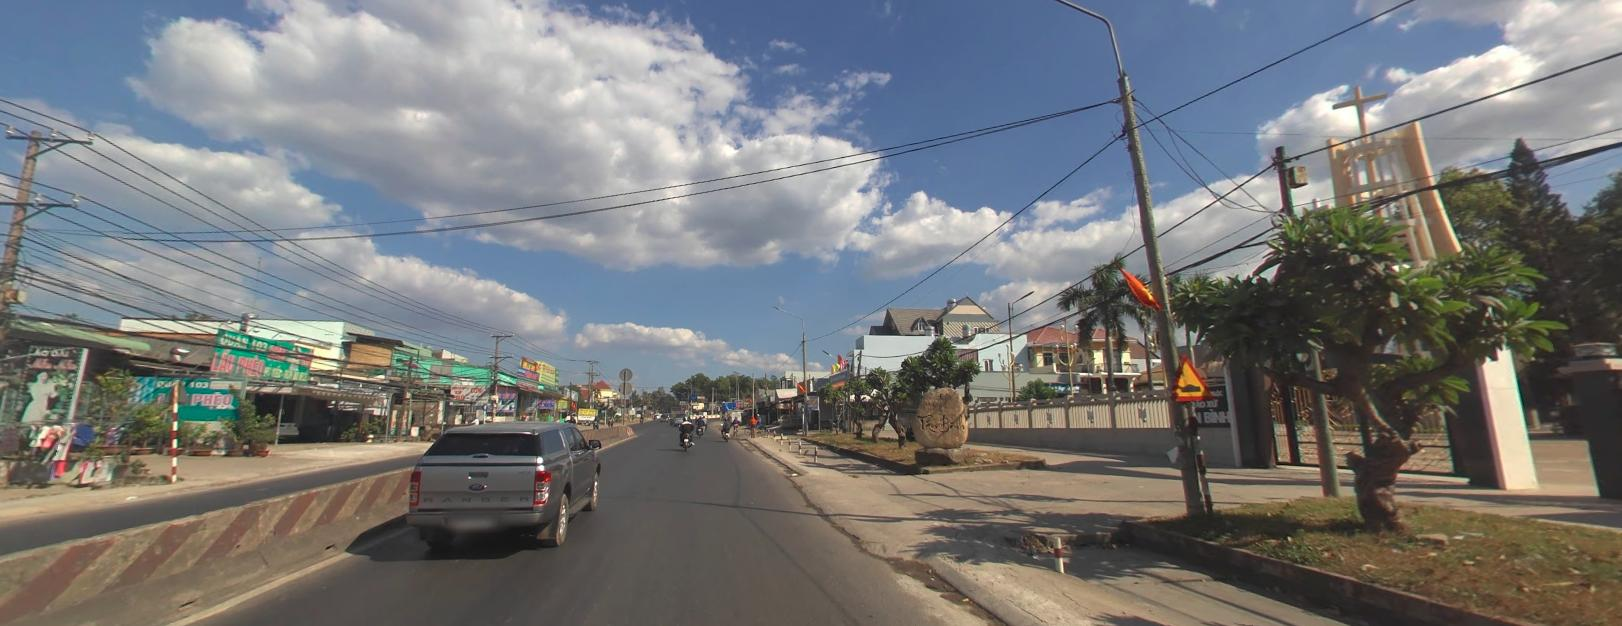Nguy hiem: (1167, 351, 1215, 403)
